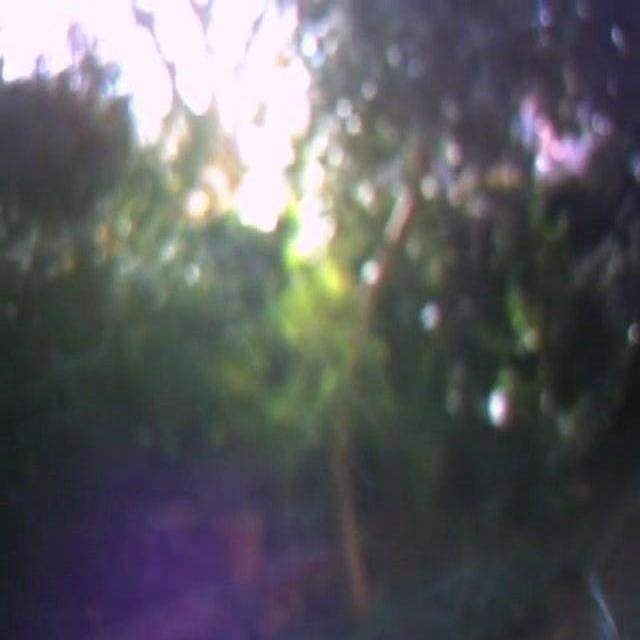other: (37, 12, 342, 292)
